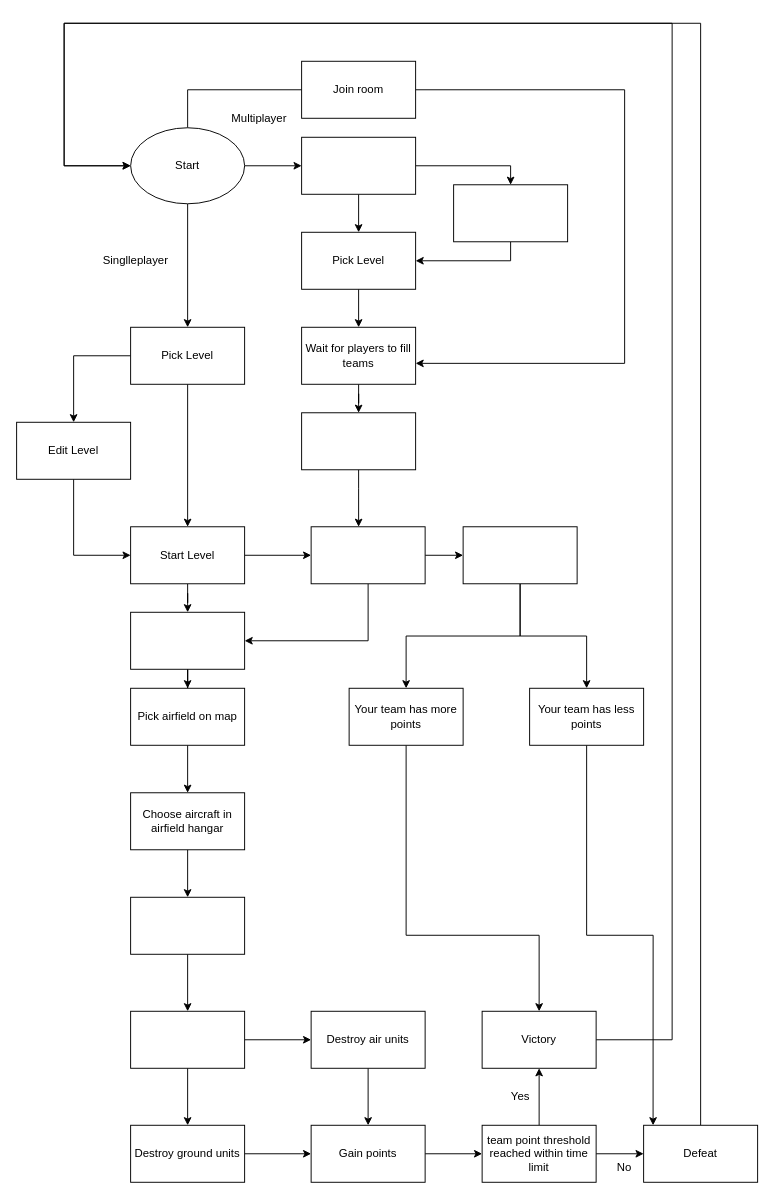
This 774x1199 diagram has some shape labels left out. The centre of each missing label's shape, as x and y in pixels:
"Choose loadout" goes at pixel 187 925.
"Choose room options" goes at pixel 510 213.
"Create room" goes at pixel 358 165.
"Host Starts Level" goes at pixel 358 441.
"Initialize score" goes at pixel 187 640.
"Takeoff" goes at pixel 187 1039.
"Timer run out" goes at pixel 519 555.
"Timer start" goes at pixel 367 555.
